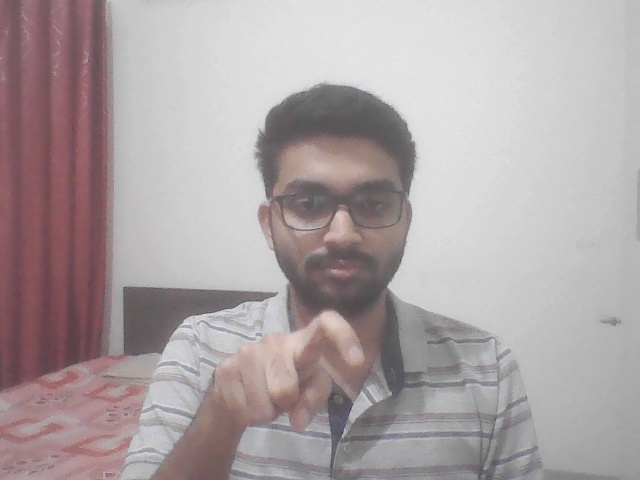need: (182, 306, 403, 457)
